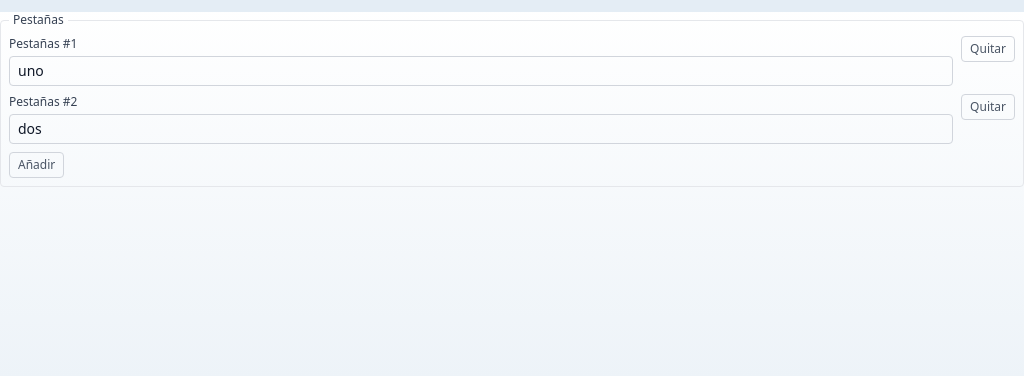
PropertyFieldDispatcher array schema with minItems (RF2, 0105) › keeps both "Quitar" enabled with two items above minItems, then disables the remaining one after removing one
The image size is (1024, 376).
Expected: the button with aria-label "Quitar Pestañas #2" is enabled, [961, 94, 1015, 120]
Click the button with aria-label "Quitar Pestañas #1": (988, 49) [961, 36, 1015, 62]
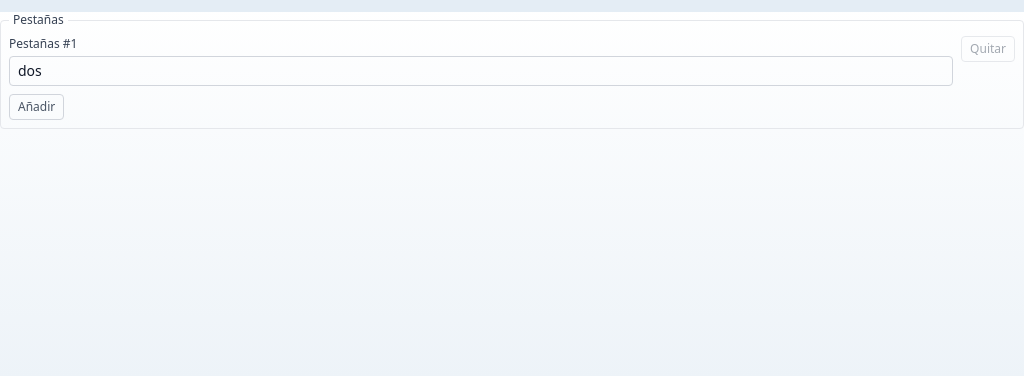
Expected: the button with aria-label "Quitar Pestañas #1" is disabled, [961, 36, 1015, 62]
